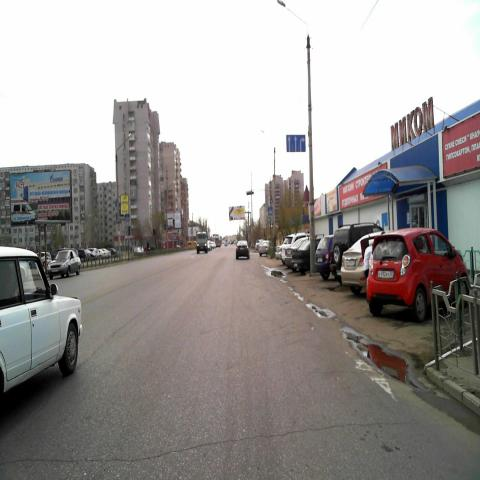5_15_1: (286, 134, 306, 152)
